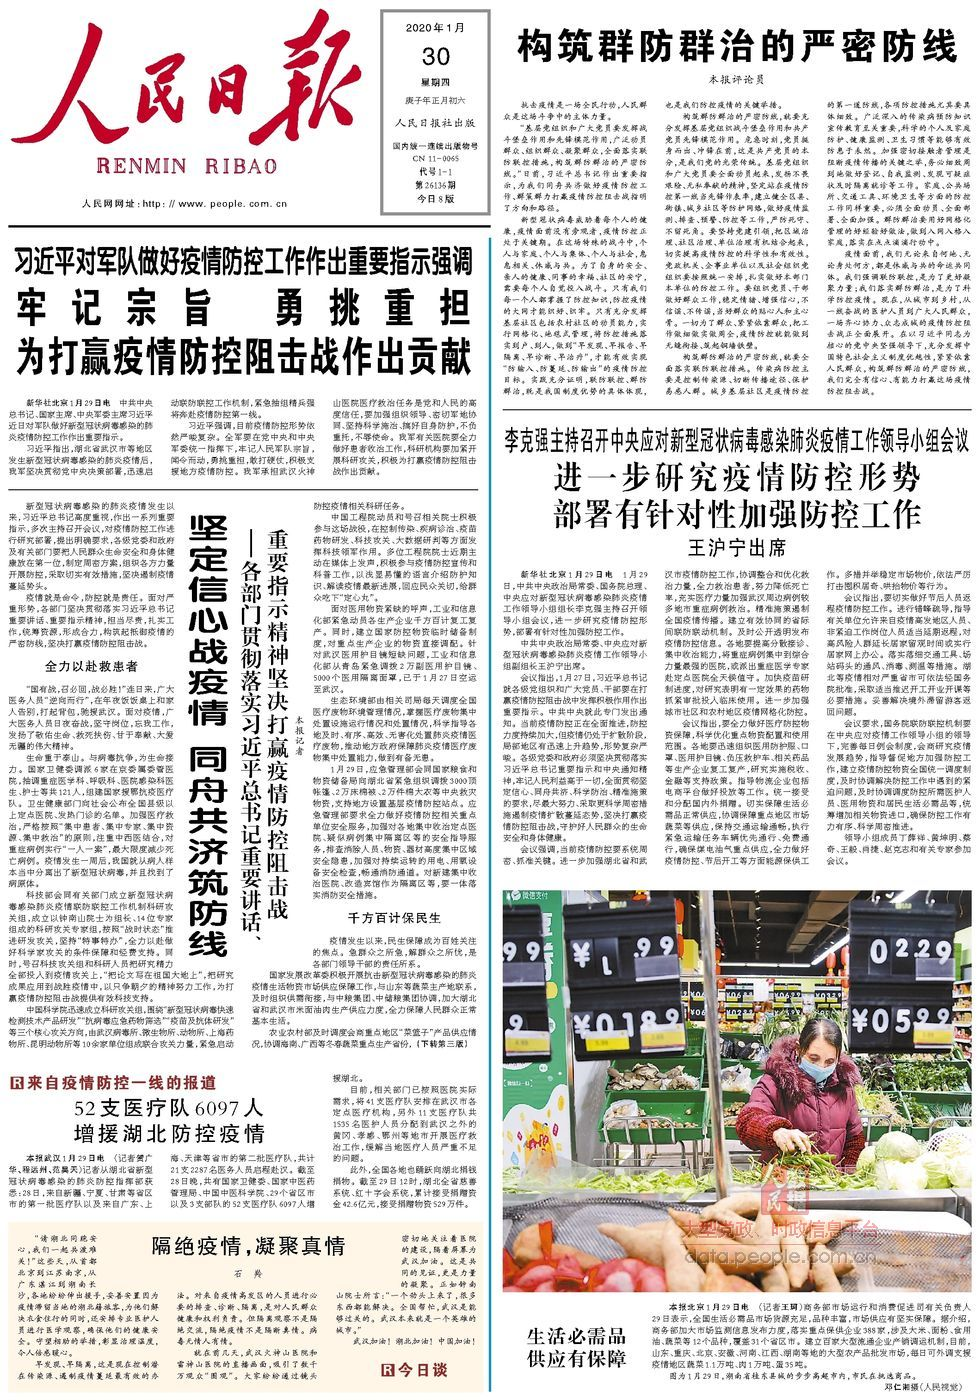pic: (499, 885, 977, 1298)
